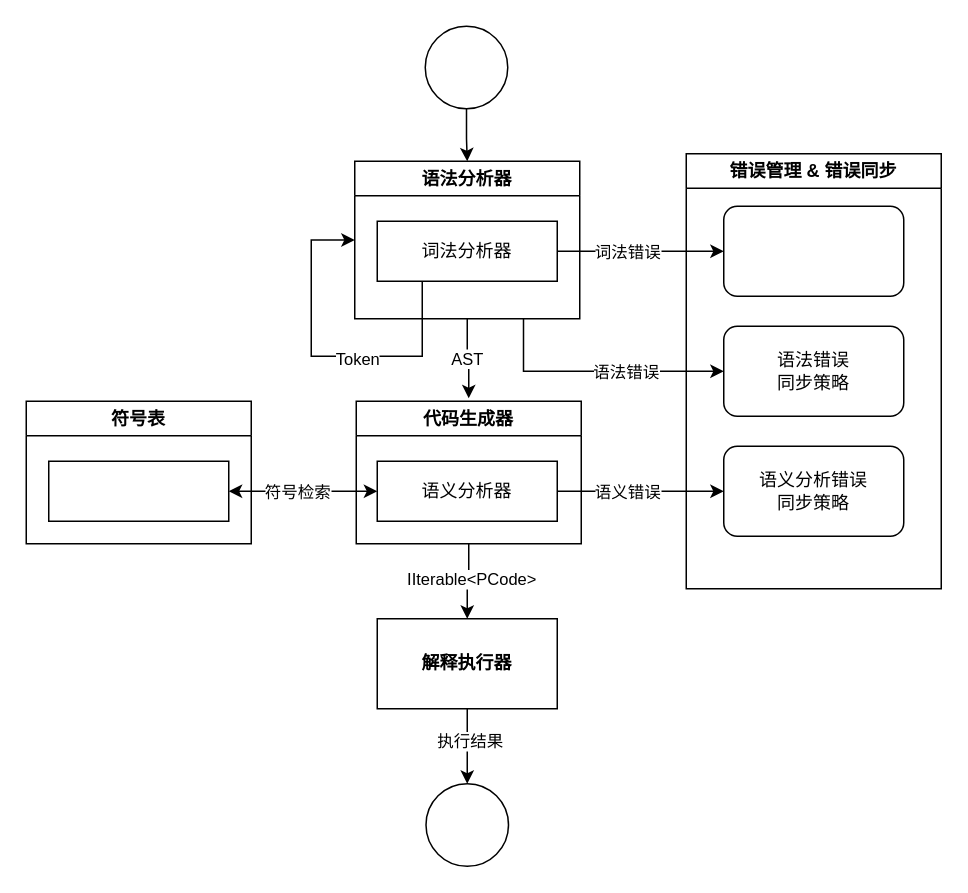
This 968x893 diagram has some shape labels left out. The box of each missing label's shape, as (x1, y1, x2, y2) in pixels:
CRUD操作: (47, 460, 229, 521)
源程序: (424, 25, 508, 109)
词法错误 同步策略: (722, 205, 904, 296)
输出: (424, 782, 508, 866)
